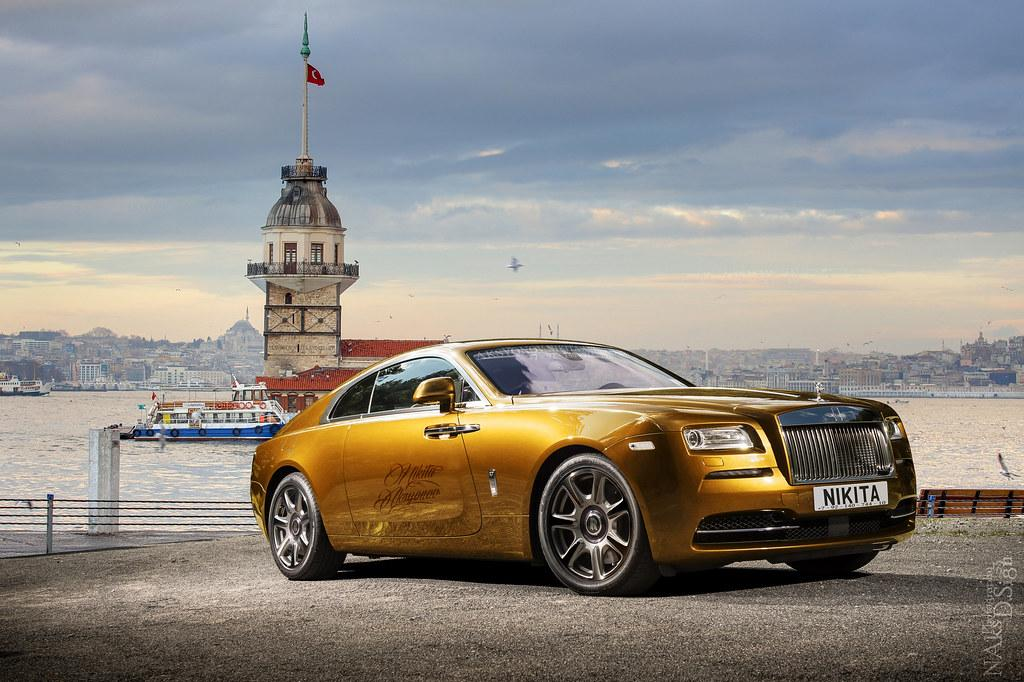car: (250, 337, 918, 598)
